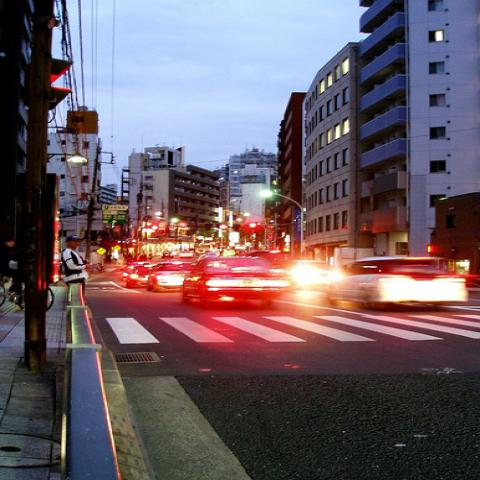car: (179, 257, 293, 311), (330, 260, 469, 304), (231, 251, 292, 276), (287, 260, 340, 287), (149, 261, 191, 291), (125, 266, 151, 288), (123, 265, 142, 282), (160, 252, 174, 259), (180, 250, 192, 258)
